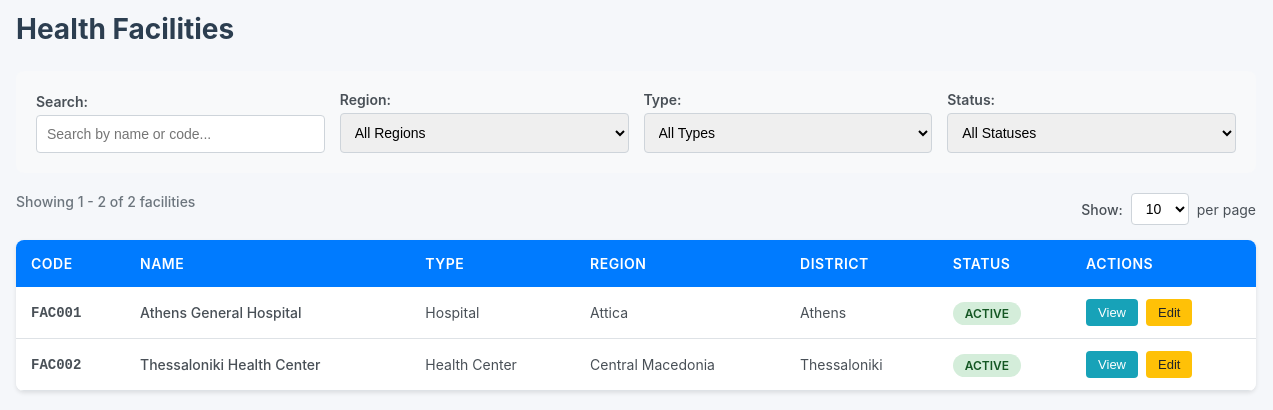
it: FacilityList Component › clears filters when clear button is clicked
Type in search to activate filter
Type "Athens" into the field with placeholder "Search by name or code...". click: (180, 134)
box: [36,115,325,153]
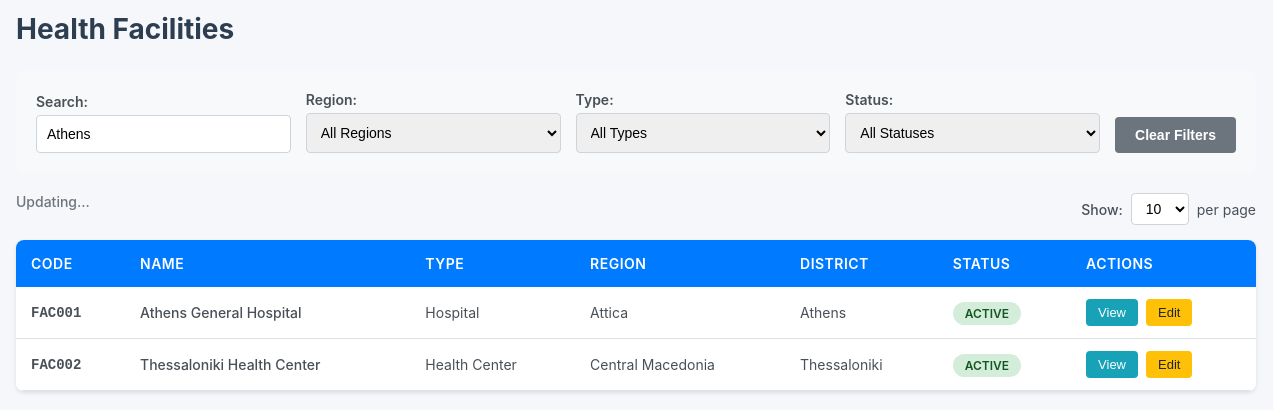
Click clear filters
Click the button "Clear Filters". click: (1176, 135)
box: [1115,117,1236,153]
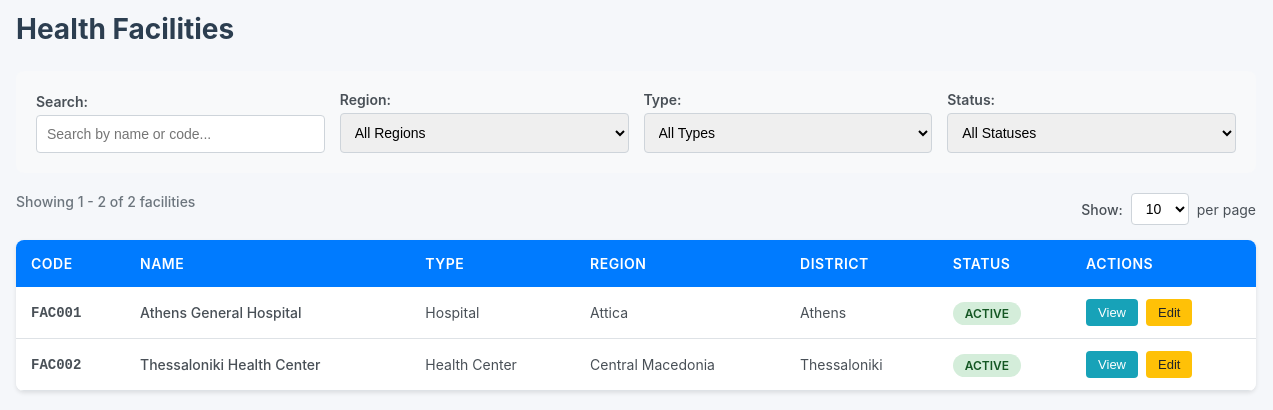
Expected: the field with placeholder "Search by name or code..." is empty, [36,115,325,153]
